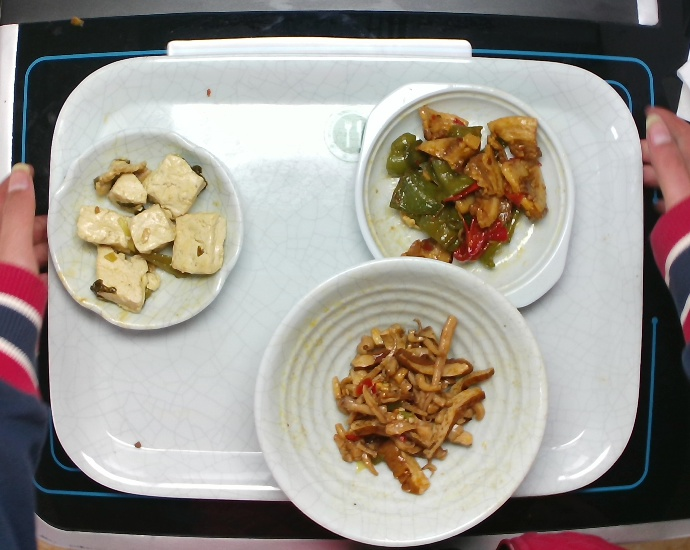JYsf-Ao_Yuan_Wan: (41, 123, 248, 335)
JYsf-Shuang_Er_Pan: (350, 73, 582, 324)
JYsf-Xiao_Tang_Wan: (250, 248, 555, 550)
